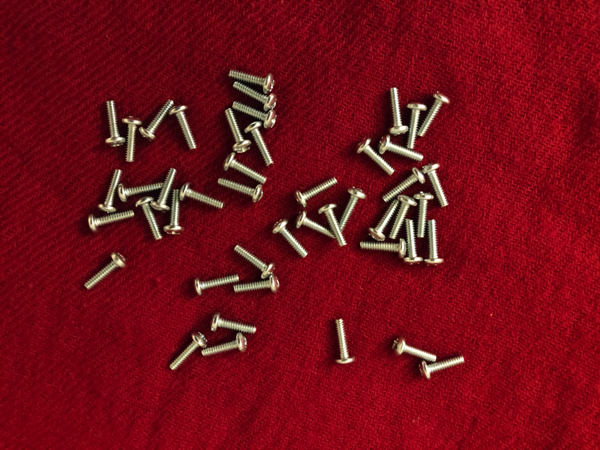shortscrew: (83, 253, 126, 293), (168, 102, 202, 152), (140, 98, 177, 143), (169, 331, 208, 373), (381, 166, 424, 204), (417, 90, 451, 138), (232, 244, 277, 280), (220, 152, 270, 184), (272, 218, 310, 259), (357, 138, 397, 176), (115, 176, 167, 205), (221, 107, 253, 154), (244, 120, 276, 166), (135, 193, 165, 242), (378, 135, 425, 166), (337, 187, 368, 234), (319, 202, 350, 249), (88, 206, 136, 236), (295, 176, 340, 208), (369, 198, 400, 244), (151, 165, 179, 215), (100, 99, 128, 149), (390, 192, 418, 242), (179, 181, 225, 211), (209, 311, 258, 339), (217, 177, 267, 204), (295, 210, 340, 240), (423, 161, 451, 209), (418, 355, 469, 381), (227, 67, 276, 94), (199, 332, 249, 358), (233, 83, 281, 110), (391, 337, 440, 363), (231, 101, 278, 128), (98, 166, 123, 216), (193, 272, 241, 298), (334, 316, 357, 367), (162, 189, 185, 237), (359, 237, 407, 260), (121, 114, 143, 164), (405, 102, 428, 149), (423, 219, 446, 266), (389, 86, 410, 136), (413, 192, 435, 239), (233, 274, 284, 294), (404, 216, 424, 267)
